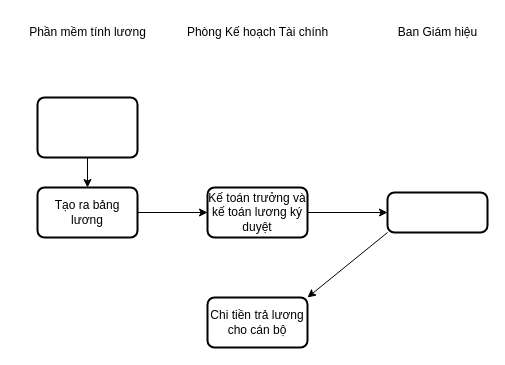
Some shapes in this 505 by 365 pixel diagram are drawn without their labels. Here are the shapes that lost their labels. From the top down, the centre of each, then its label:
(x=87, y=127): Phần mềm tính lương cho từng người khác nhau
(x=437, y=212): Ban Giám hiệu ký duyệt
